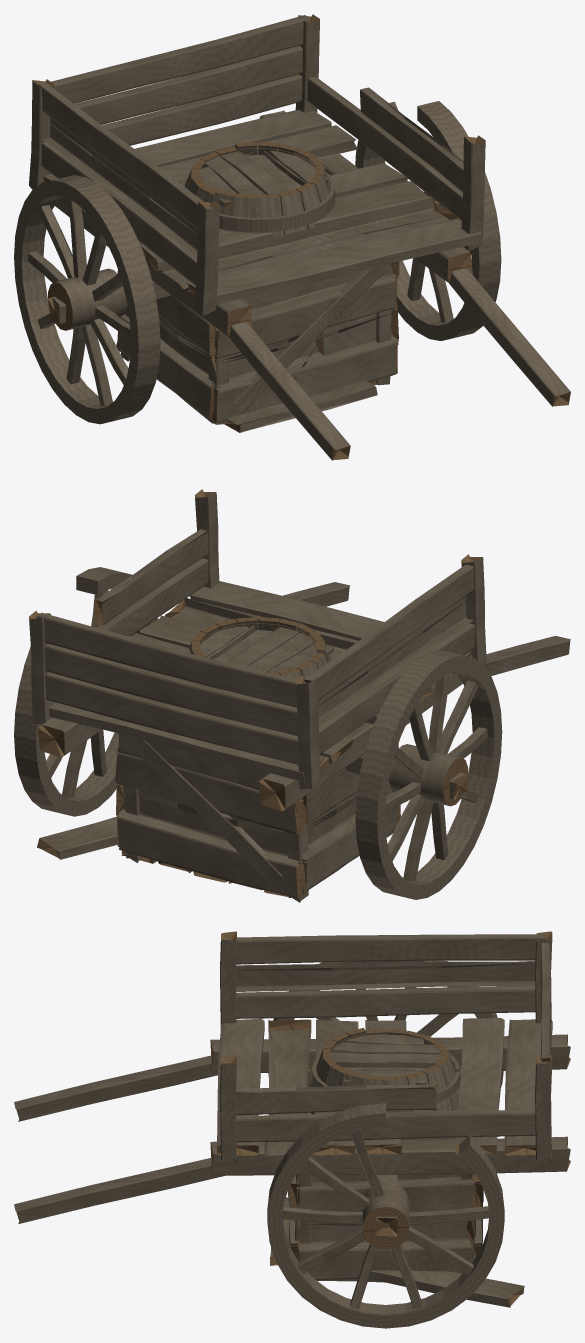
File: optimized_existing_v004.glb
The picture shows the model from 3 angles, top to bottom: view 1: azimuth 30°, elevation 25°; view 2: azimuth 150°, elevation 25°; view 3: azimuth 270°, elevation 25°; orthographic projection. The views are drawn at different scales.
Visible parts, largest first — view 1: cart_broken, crate_intact, crate_broken, barrel_intact, barrel_broken; view 2: cart_broken, crate_broken, crate_intact, barrel_intact, barrel_broken; view 3: cart_broken, crate_intact, crate_broken, barrel_intact, barrel_broken.
Boxes of the visible parts, x1,y1,x2,y2 form: cart_broken: (14,14,570,460); crate_intact: (117,261,399,424); crate_broken: (116,266,398,432); barrel_intact: (185,145,339,327); barrel_broken: (180,142,335,327); cart_broken: (14,489,570,899); crate_broken: (115,738,400,899); crate_intact: (115,733,399,902); barrel_intact: (185,622,334,707); barrel_broken: (185,617,334,703); cart_broken: (14,931,570,1328); crate_intact: (288,1069,483,1282); crate_broken: (270,1066,483,1274); barrel_intact: (312,1029,460,1140); barrel_broken: (308,1028,459,1140).
Size of the model in its own units: 1.96 by 1.2 by 2.44.
Materials: 1 (1 with a texture image).
